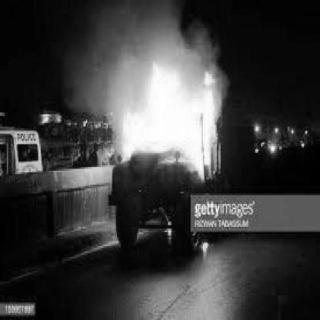Fire: (113, 56, 229, 166)
